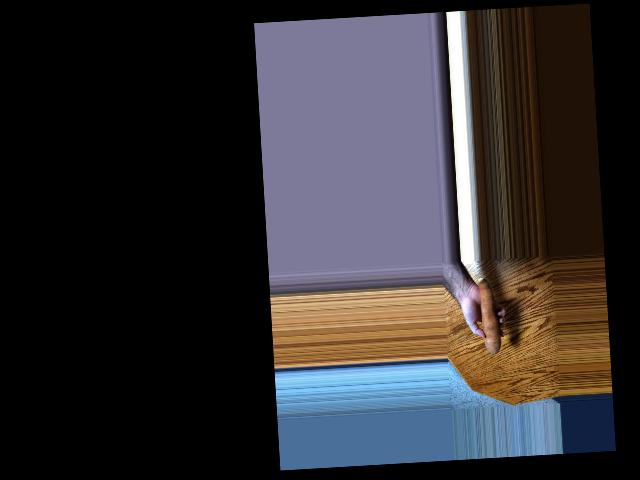sweet_potato: (479, 279, 507, 357)
